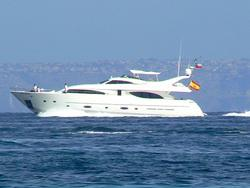yacht: (8, 56, 209, 120)
